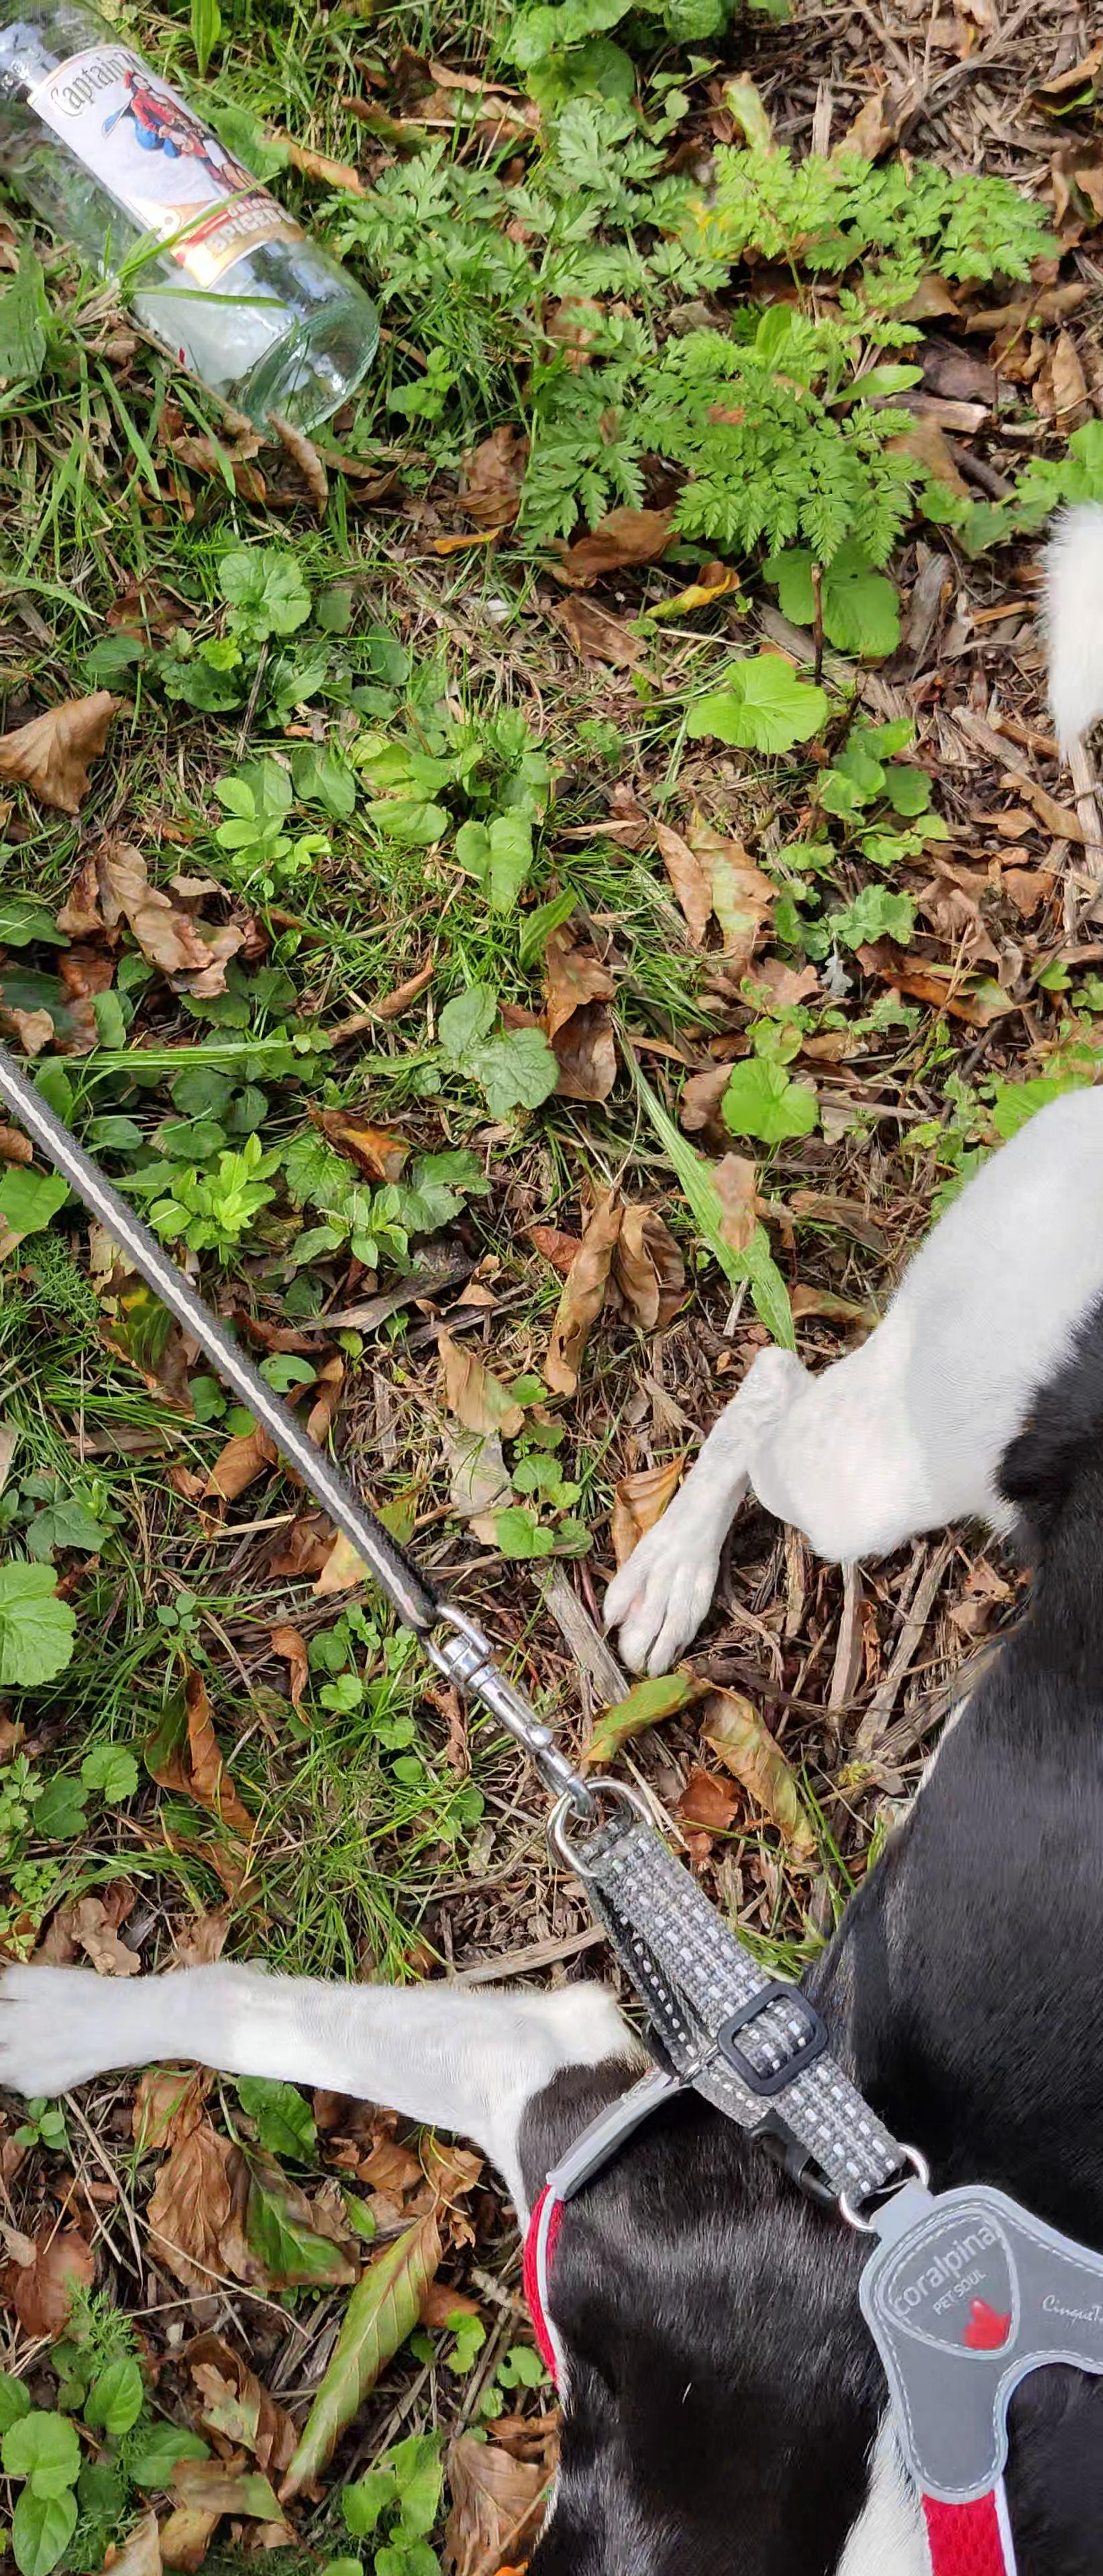Dog: (0, 494, 1103, 2576)
